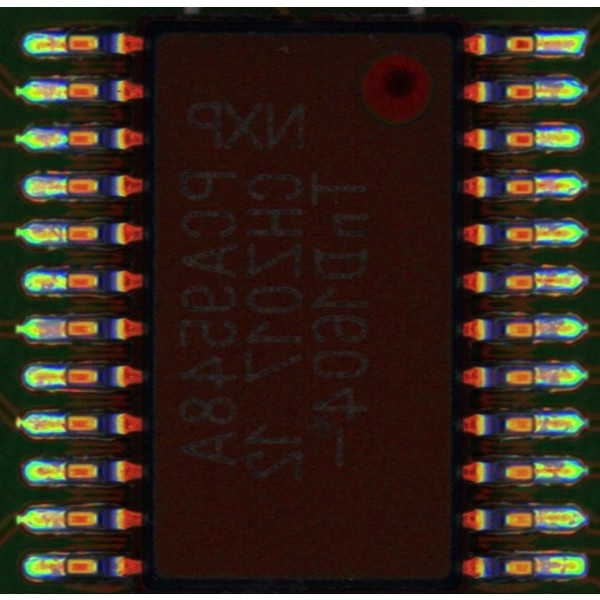Bad_podu: (517, 512, 552, 527), (519, 369, 551, 385), (518, 132, 555, 145), (521, 275, 552, 290), (517, 418, 550, 432), (519, 560, 554, 573), (521, 36, 552, 50), (518, 466, 554, 478), (46, 514, 82, 525), (48, 323, 80, 335), (522, 84, 551, 97), (519, 321, 550, 333), (519, 229, 550, 240), (46, 420, 80, 430), (518, 182, 550, 192), (47, 40, 82, 49), (51, 562, 79, 573), (52, 373, 79, 384), (59, 179, 75, 193)
